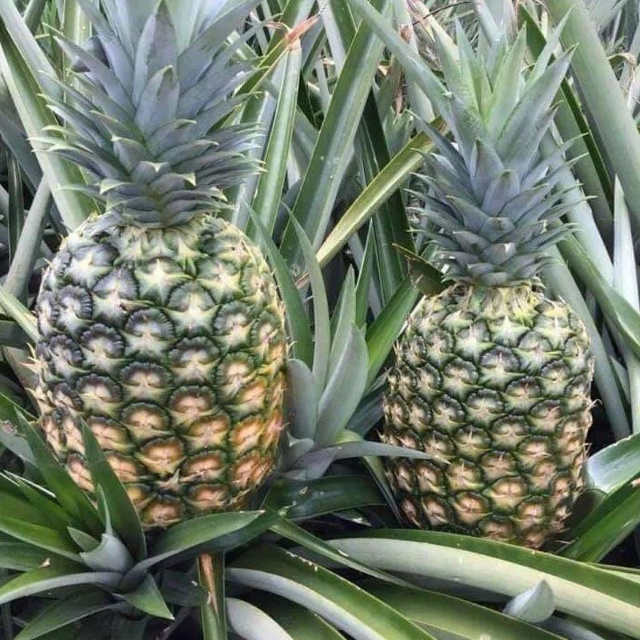thom: (25, 163, 307, 529), (365, 236, 593, 552)
